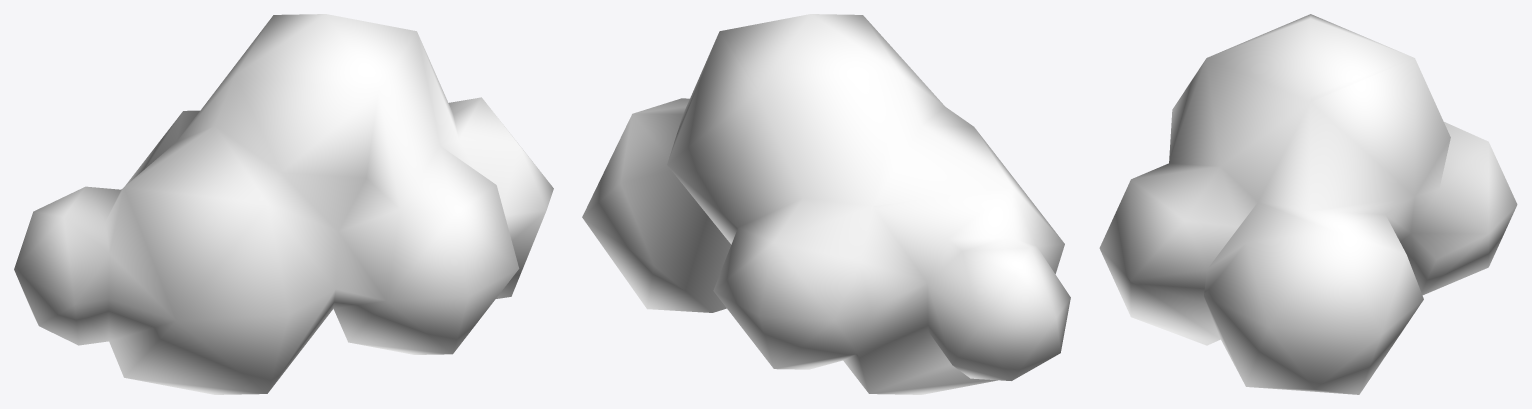
The model's file is GL-Cloud-01.fbx.
3 renders of one model, left to right at view 1: azimuth 30°, elevation 25°; view 2: azimuth 150°, elevation 25°; view 3: azimuth 270°, elevation 25°, orthographic.
Visible parts, largest first — view 1: GL-Cloud-01; view 2: GL-Cloud-01; view 3: GL-Cloud-01.
Boxes of the visible parts, box(x1,y1,x2,y2) form: GL-Cloud-01: box(14, 14, 553, 394); GL-Cloud-01: box(582, 14, 1070, 394); GL-Cloud-01: box(1099, 14, 1517, 394).
Size of the model in its own units: 2.65 by 1.85 by 2.
